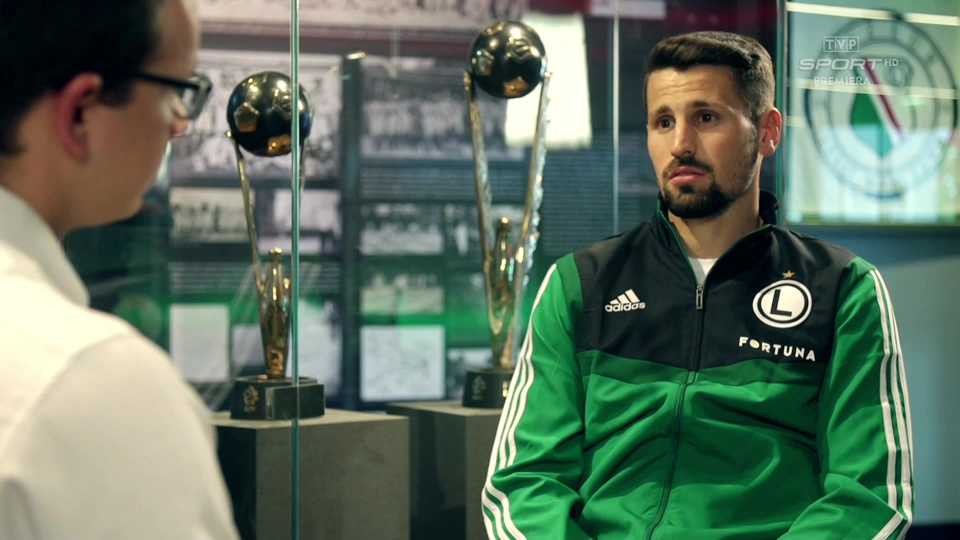Adidas: (603, 287, 646, 312)
